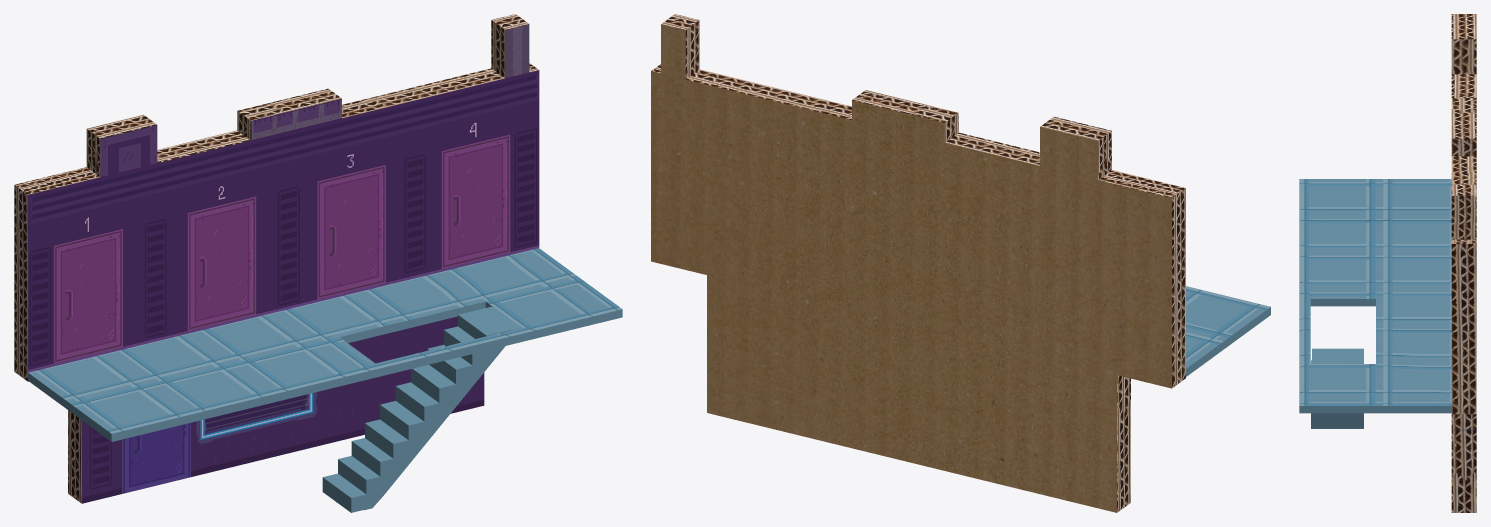
File: building2_2.gltf
The picture shows the model from 3 angles, left to right: view 1: azimuth 30°, elevation 25°; view 2: azimuth 150°, elevation 25°; view 3: azimuth 270°, elevation 25°; orthographic projection. The views are drawn at different scales.
Parts seen in each view (by area): view 1: building2; view 2: building2; view 3: building2.
Boxes of the visible parts, x1,y1,x2,y2 form: building2: (14, 14, 622, 512); building2: (651, 14, 1270, 512); building2: (1299, 14, 1476, 512).
Size of the model in its own units: 0.3754 by 0.26 by 0.1239.
